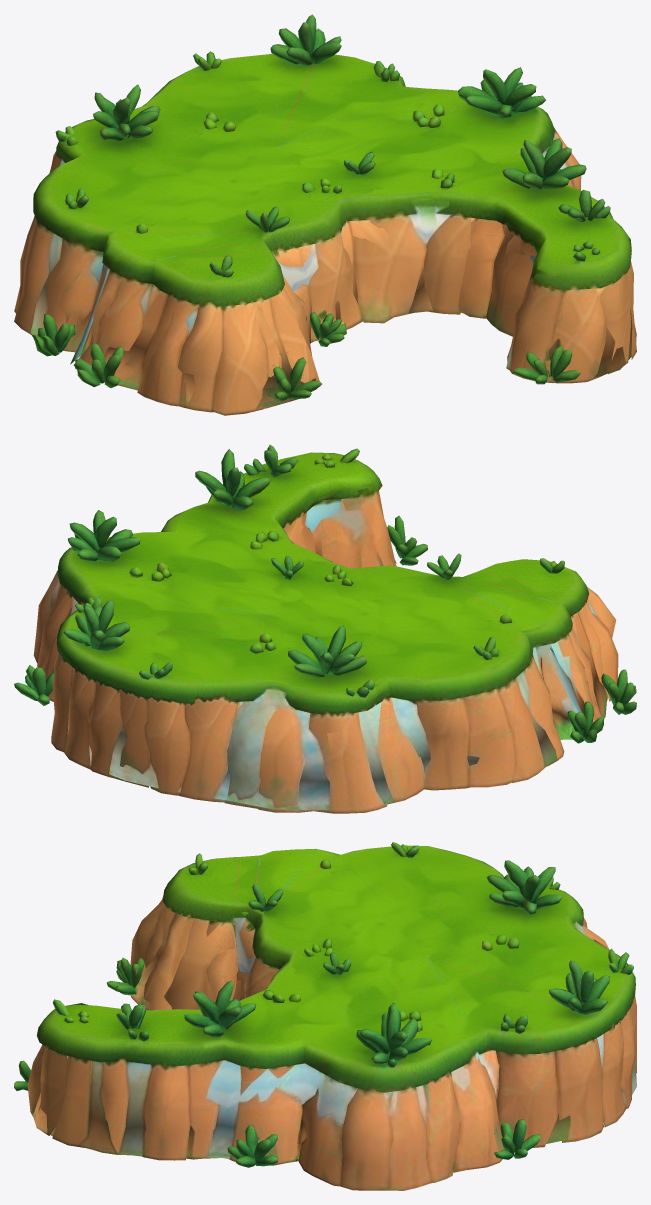
Rendered from s2_r1c6_crescent_islet_terrain.glb.
The picture shows the model from 3 angles, top to bottom: view 1: azimuth 30°, elevation 25°; view 2: azimuth 150°, elevation 25°; view 3: azimuth 270°, elevation 25°; orthographic projection. The views are drawn at different scales.
Size of the model in its own units: 1 by 0.2721 by 1.
Materials: 1 (1 with a texture image).
